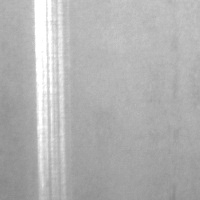scratches: (32, 1, 69, 198)
